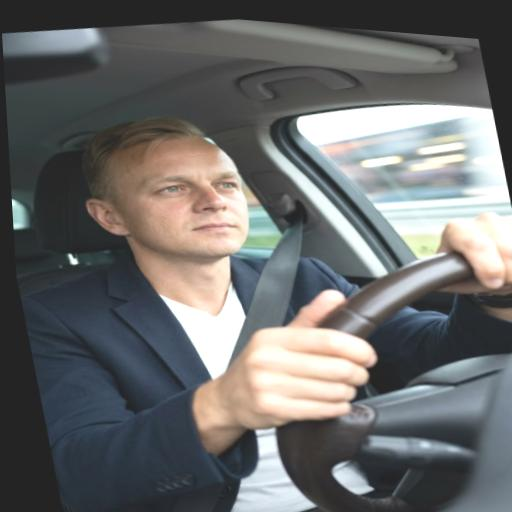Hands-on-the-Wheel: (175, 261, 441, 477), (385, 165, 512, 311)
